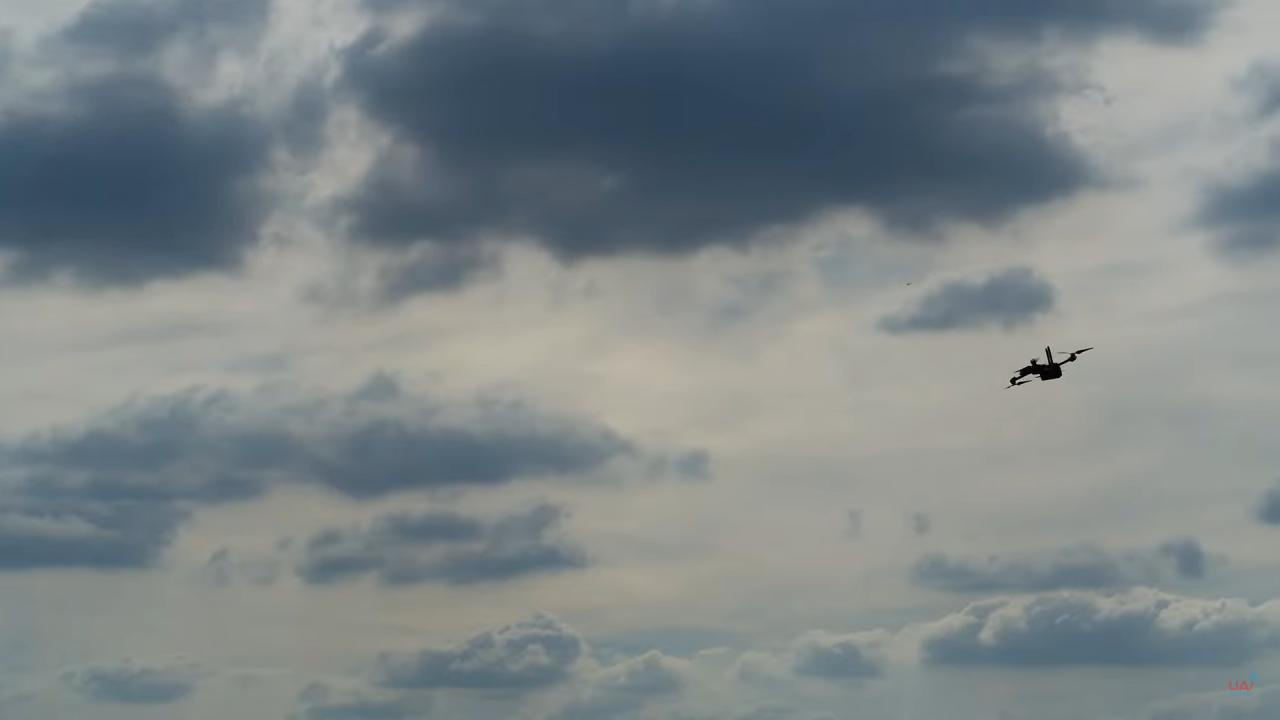Drone: (990, 333, 1105, 403)
